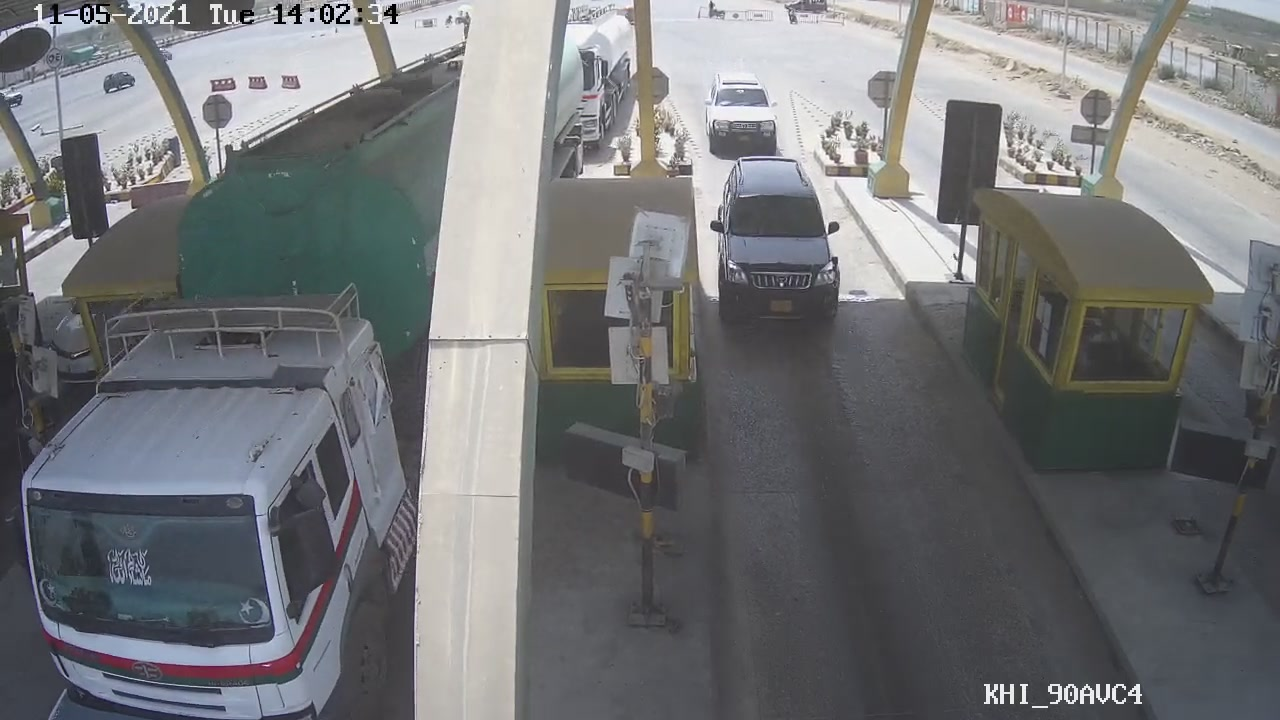F1: (696, 146, 849, 336)
